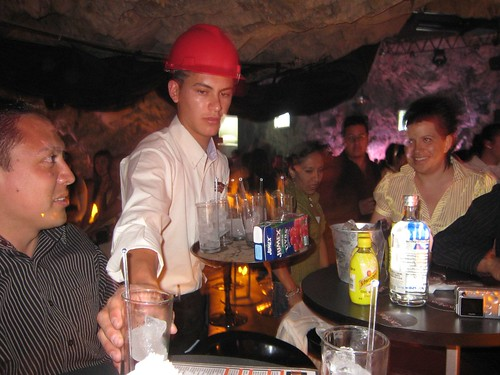person hardhat: (127, 24, 248, 351)
